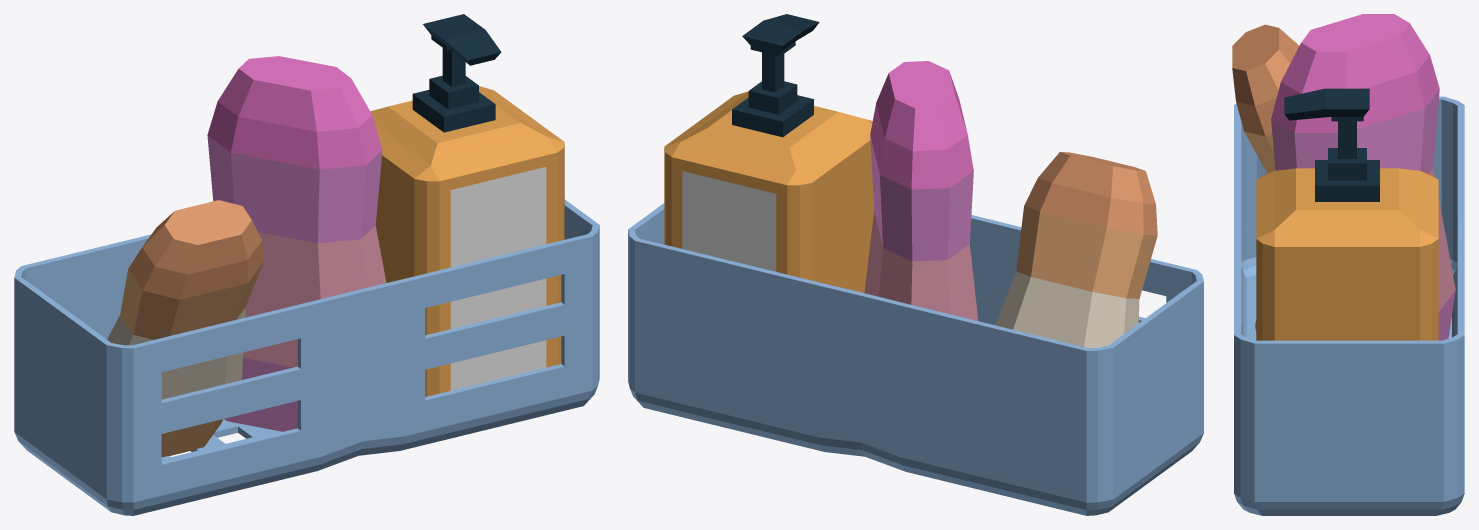
File: soap-rack.fbx
3 views of the same model, side by side, from view 1: azimuth 30°, elevation 25°; view 2: azimuth 150°, elevation 25°; view 3: azimuth 270°, elevation 25° (orthographic). The views are drawn at different scales.
Visible parts, largest first — view 1: shampoo2; view 2: shampoo2; view 3: shampoo2.
Boxes of the visible parts, x1=… form: shampoo2: x1=14, y1=14, x2=599, y2=515; shampoo2: x1=628, y1=14, x2=1203, y2=515; shampoo2: x1=1232, y1=14, x2=1464, y2=515.
Size of the model in its own units: 242 by 169 by 96.13.
